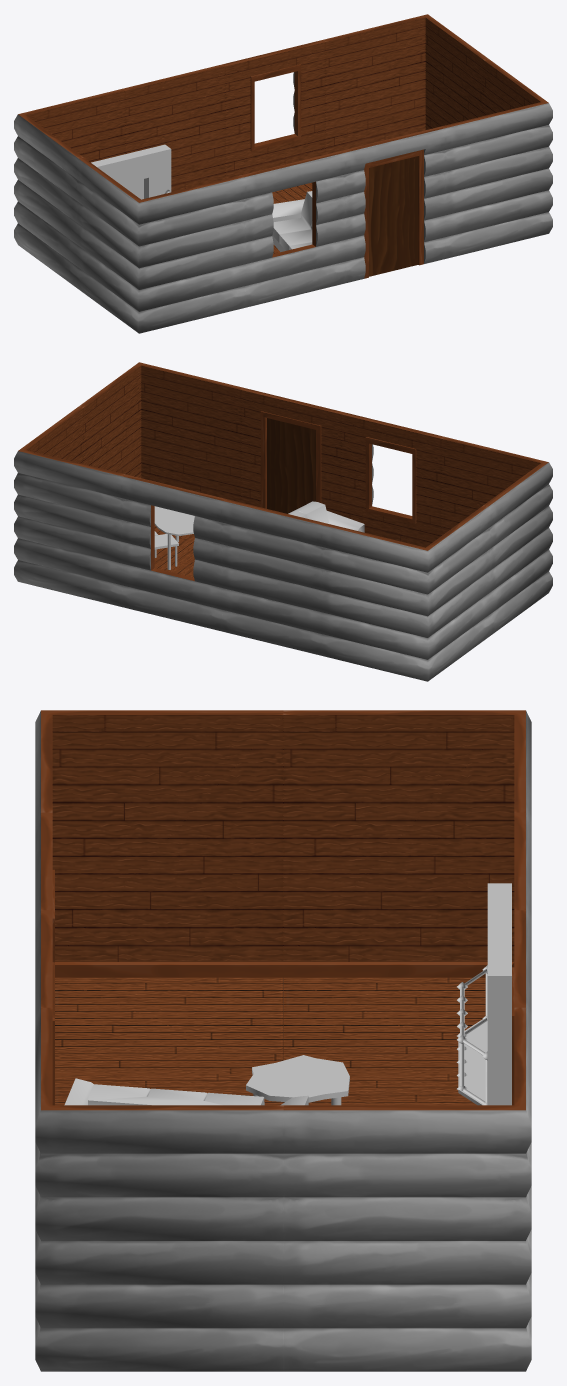
Rendered from HouseSetup01.FBX.
3 views of the same model, one above another, from view 1: azimuth 30°, elevation 25°; view 2: azimuth 150°, elevation 25°; view 3: azimuth 270°, elevation 25° (orthographic). The views are drawn at different scales.
Visible parts, largest first — view 1: Box002, HouseSetup01_Door002; view 2: Box002, HouseSetup01_Door002; view 3: Box002.
Boxes of the visible parts, x1=… form: Box002: x1=14, y1=14, x2=552, y2=333; HouseSetup01_Door002: x1=369, y1=156, x2=418, y2=276; Box002: x1=14, y1=362, x2=552, y2=681; HouseSetup01_Door002: x1=267, y1=418, x2=315, y2=513; Box002: x1=35, y1=710, x2=531, y2=1371.
Bounding box in the file's own units: 830 × 252 × 430.
